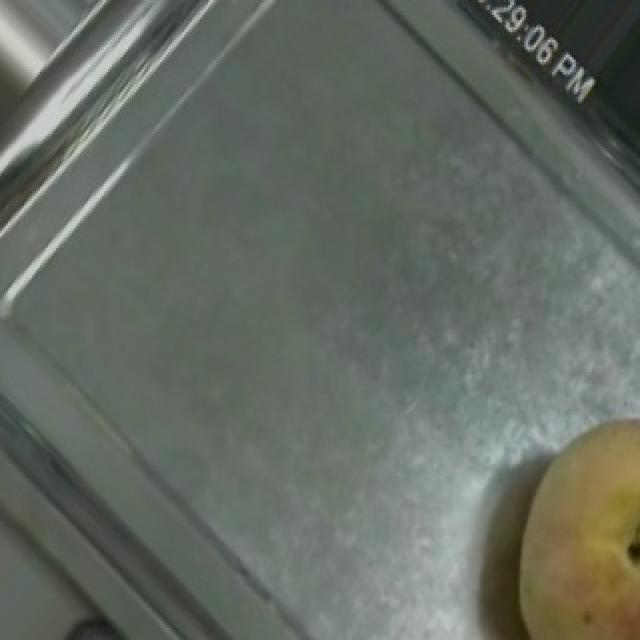Fruit: (480, 389, 640, 640)
